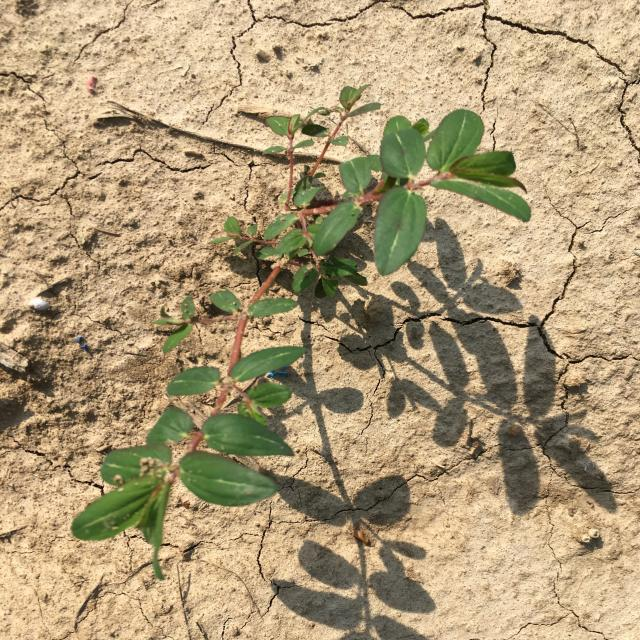SpottedSpurge: (71, 84, 532, 580)
